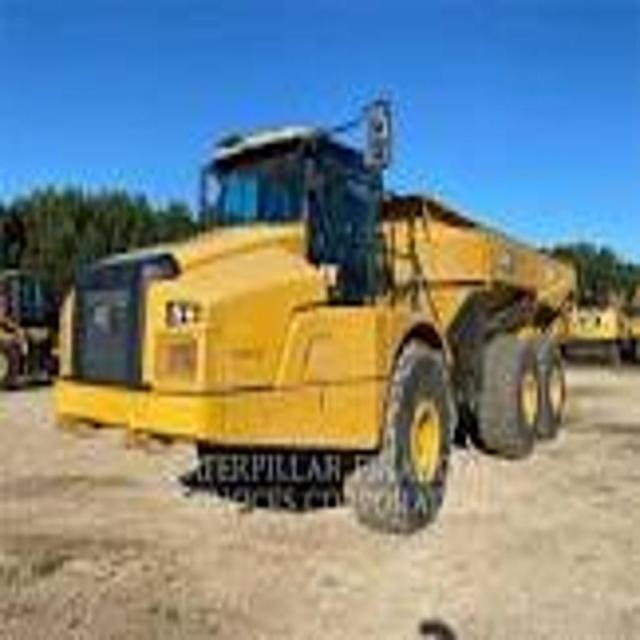dump_truck: (46, 78, 575, 544)
